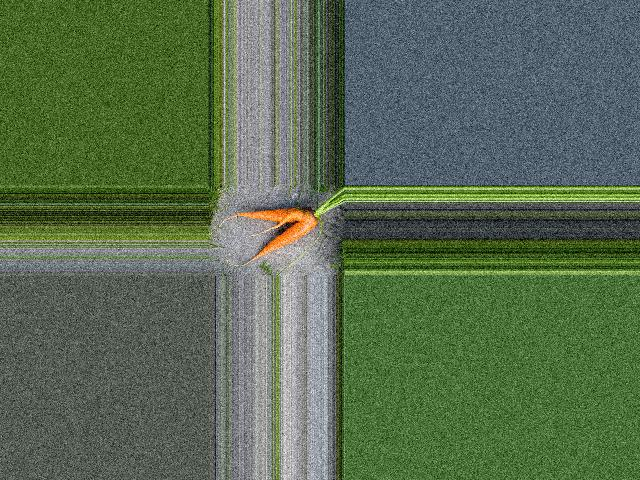carrot: (221, 199, 308, 232)
